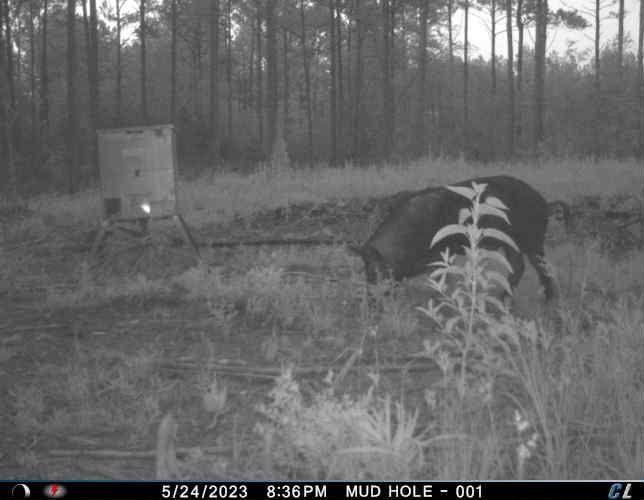Hog: (355, 176, 575, 309)
